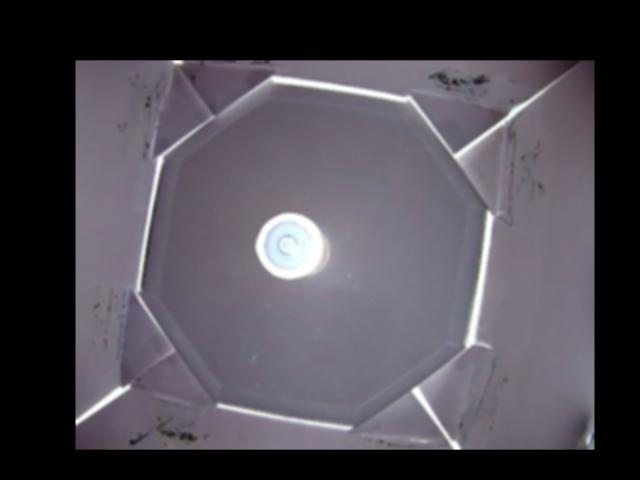Battery: (253, 214, 330, 279)
